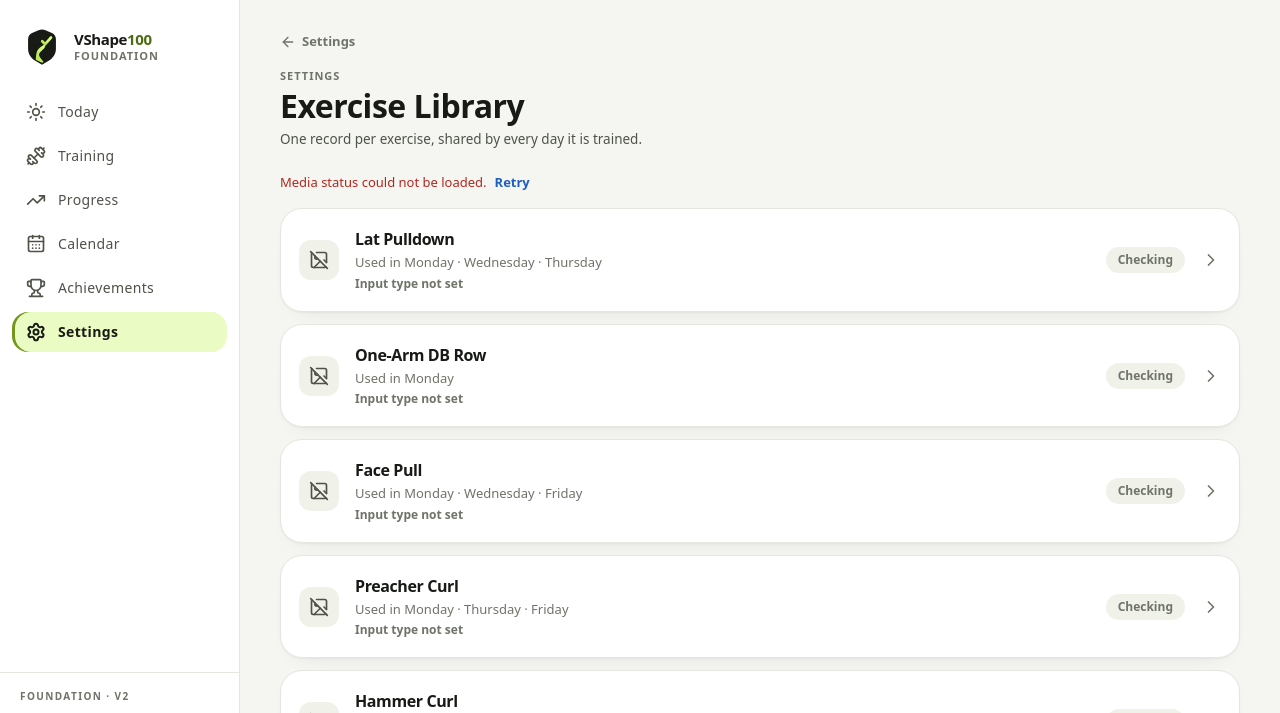
Test: Exercise Library › surfaces a load failure with a retry rather than a false empty
Expected: the text "Media status could not be loaded." is shown, [280,173,487,192]
Click the button "Retry".
click(512, 183)  # box [495,173,530,192]
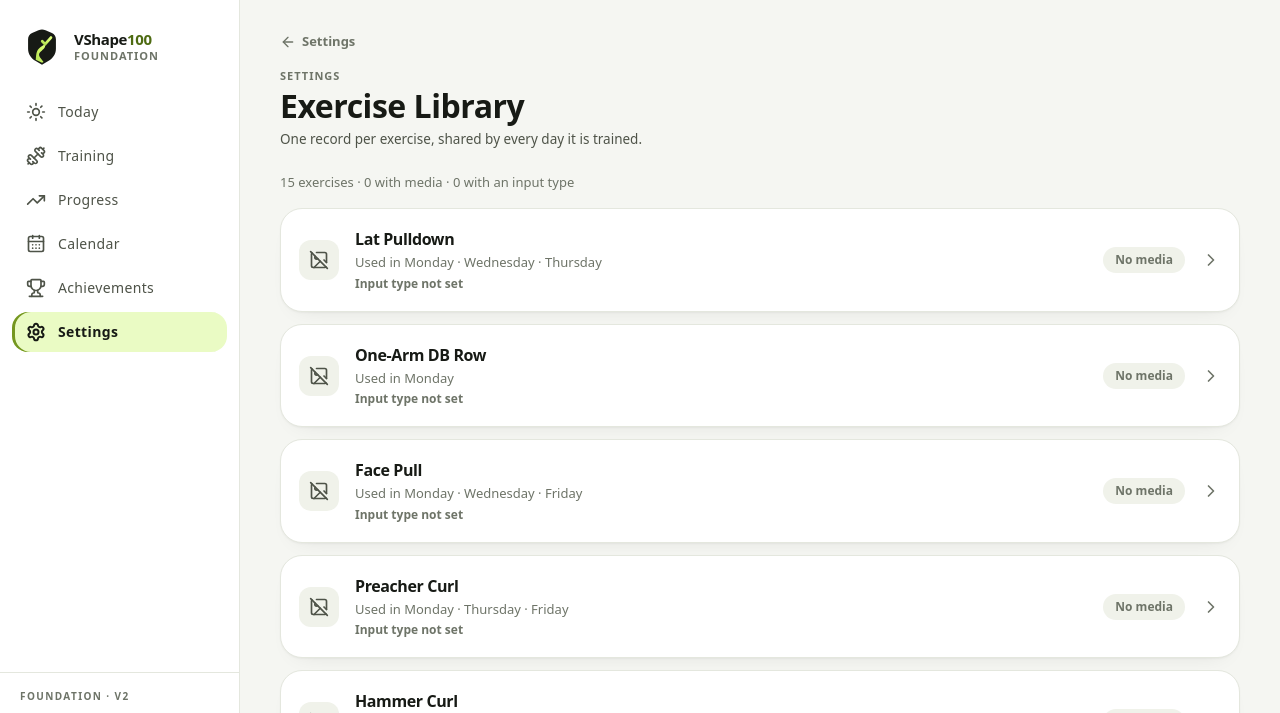
Now the text "Media status could not be loaded." is gone
